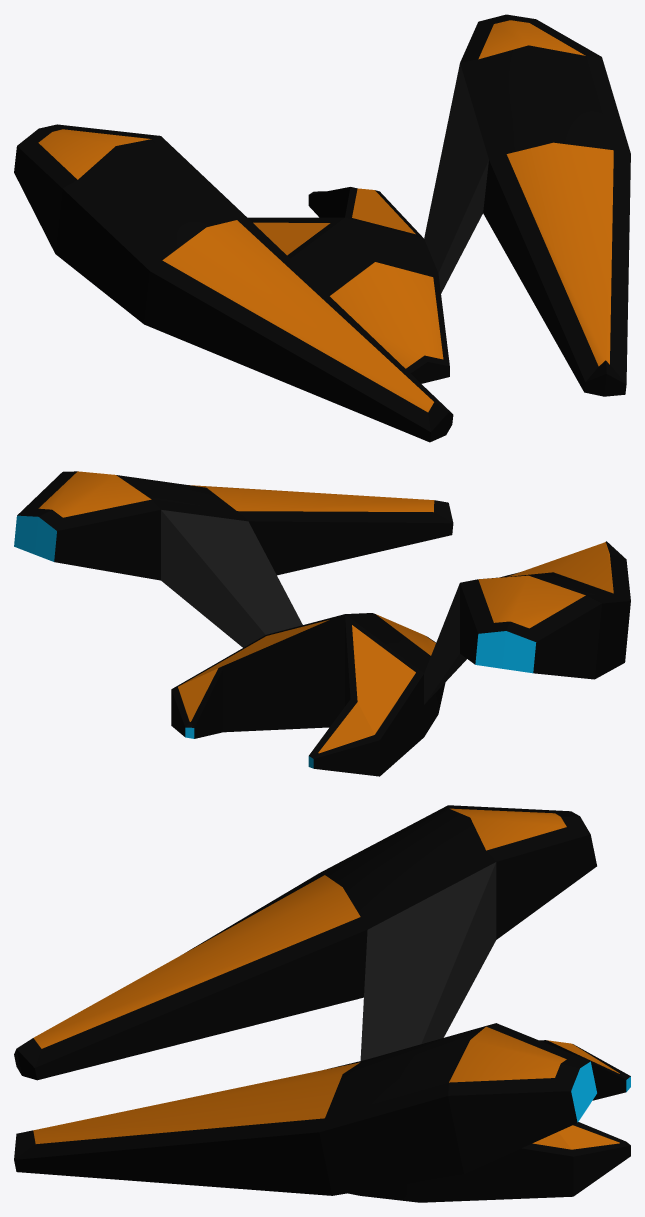
Rendered from EnemyShip3.FBX.
The picture shows the model from 3 angles, top to bottom: view 1: azimuth 30°, elevation 25°; view 2: azimuth 150°, elevation 25°; view 3: azimuth 270°, elevation 25°; orthographic projection. The views are drawn at different scales.
Visible parts, largest first — view 1: Ship003; view 2: Ship003; view 3: Ship003.
Part boxes in pixels (x1,y1,x2,y2): Ship003: (14, 14, 630, 442); Ship003: (14, 471, 630, 776); Ship003: (14, 805, 630, 1202).
Size of the model in its own units: 88.32 by 34.13 by 79.22.
